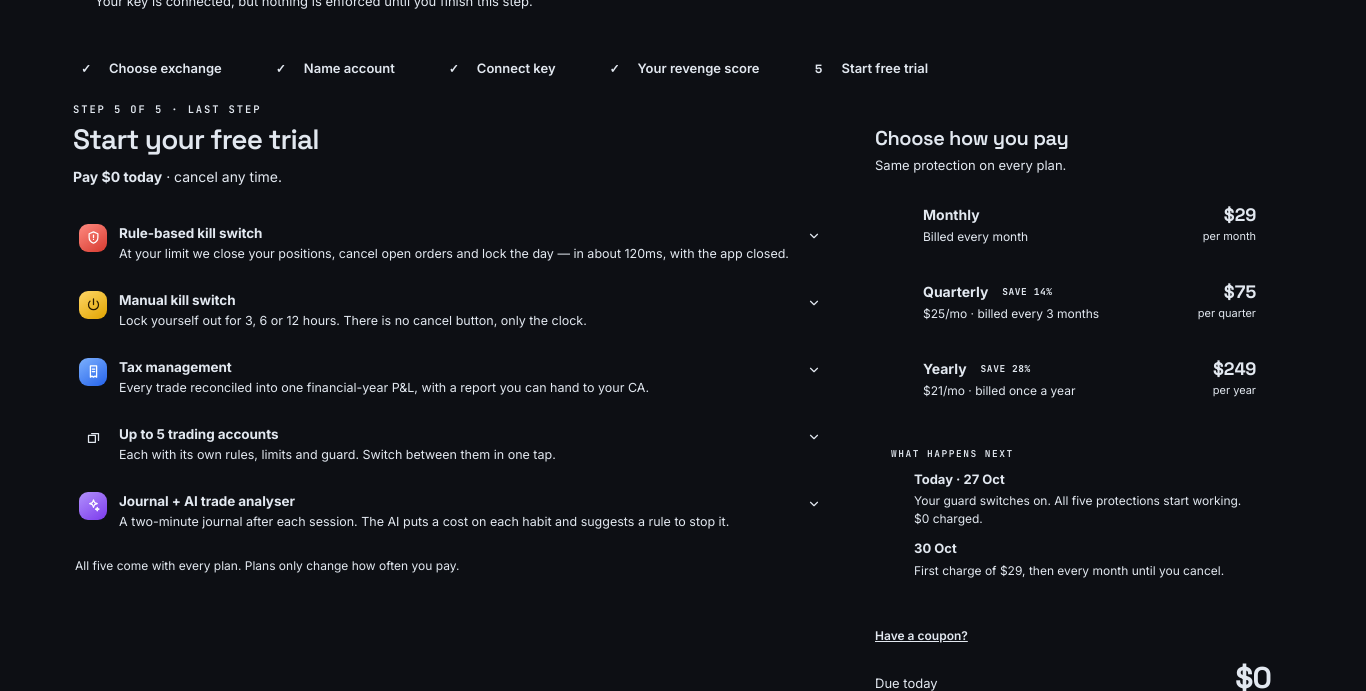
Scenario: billing step › explains a refused code (UNKNOWN)
This screenshot has width=1366, height=691.
Click the button "Have a coupon?" at (921, 636), box [875, 626, 968, 644]
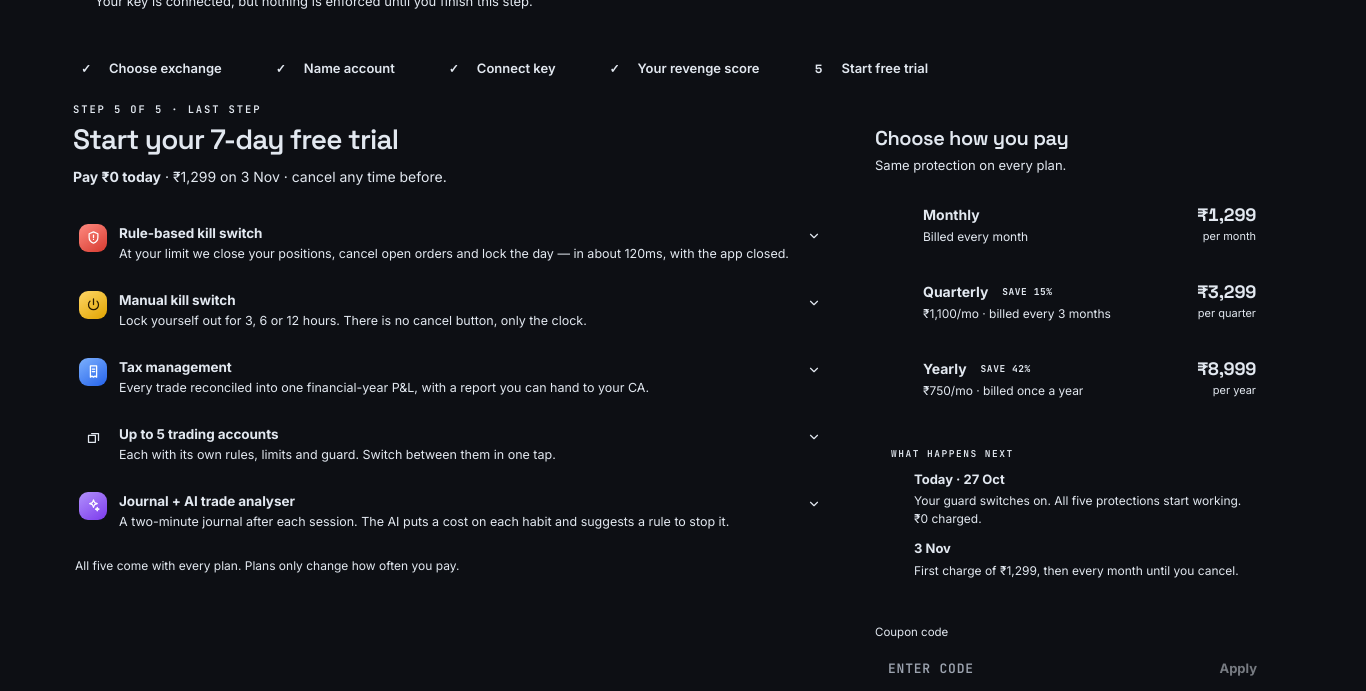
Type "nope" into the field with placeholder "Enter code" at (1036, 669), box [875, 647, 1197, 690]
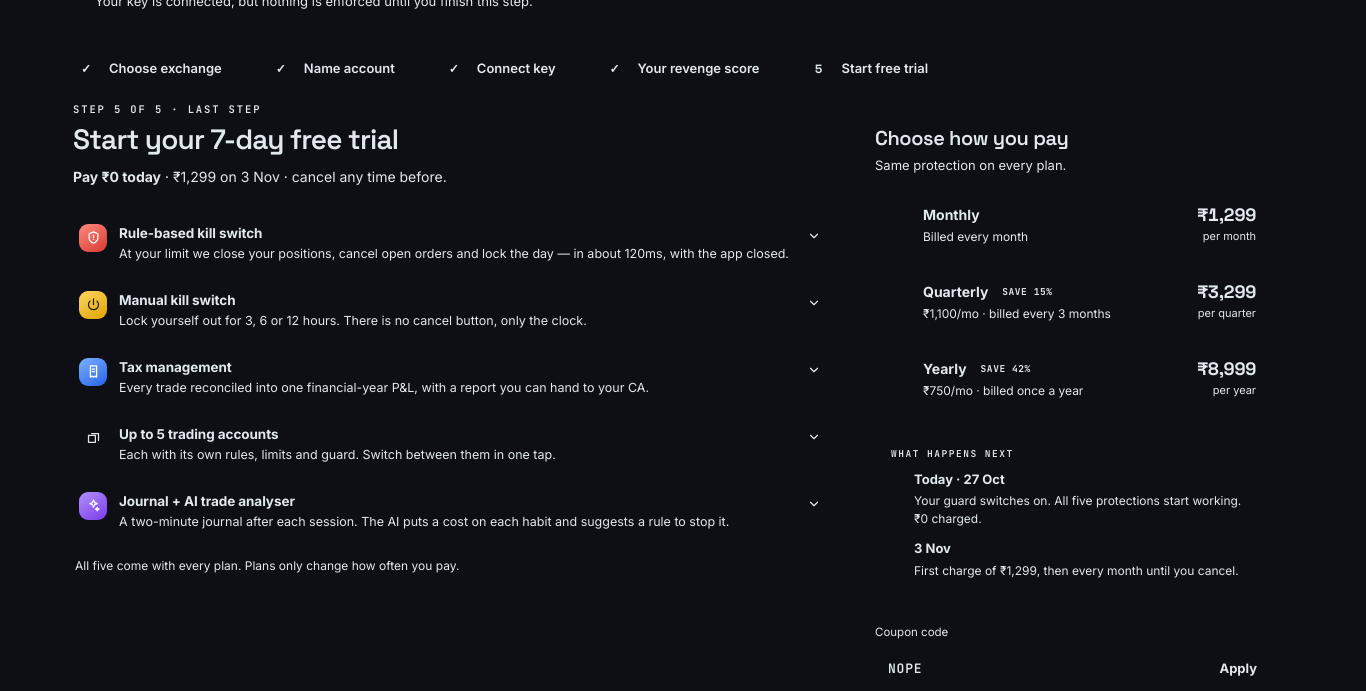
Click the button "Apply" at (1238, 669), box [1205, 647, 1271, 690]
(page scrolled)
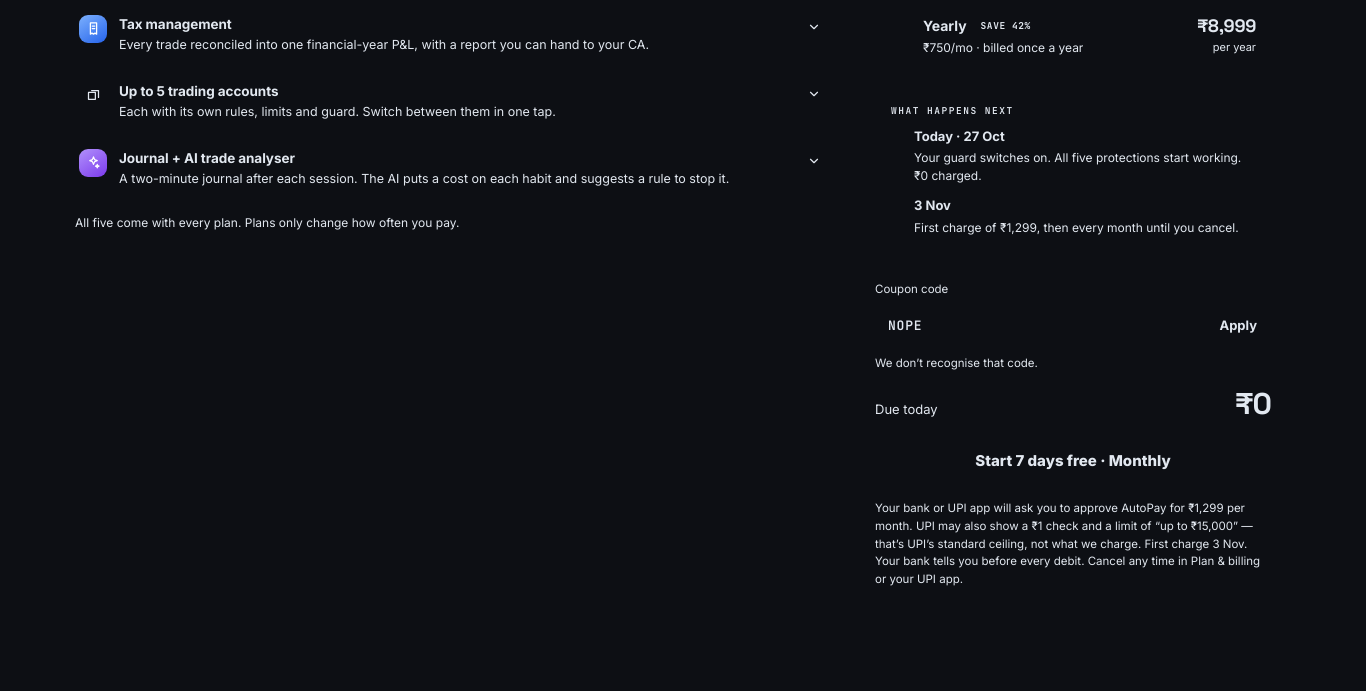
expect the text "We don’t recognise that code." is shown: met, box [875, 356, 1038, 370]
